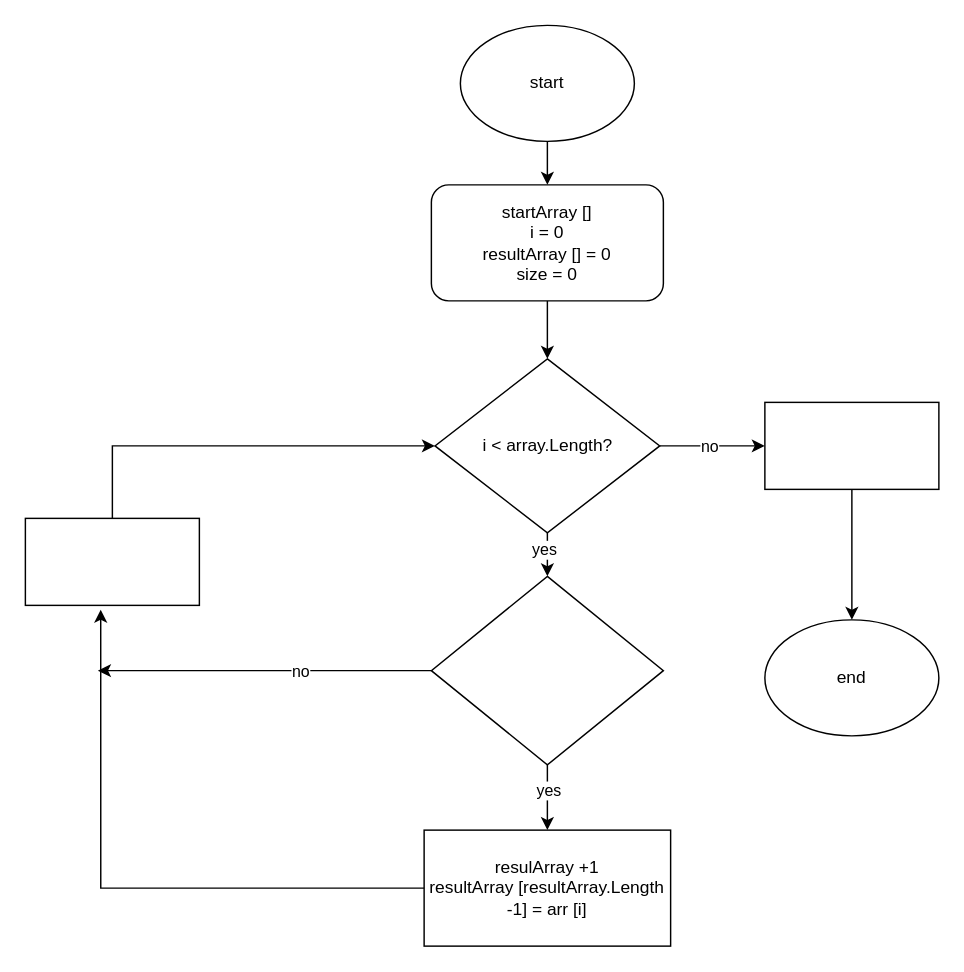
Image size: 964x972. Some labels were removed from this diagram. The centre of each missing label's shape, as x and y in pixels:
array [i].Length <= 3?: the point at 546,670
i++: the point at 111,561
print resultArray: the point at 851,445
